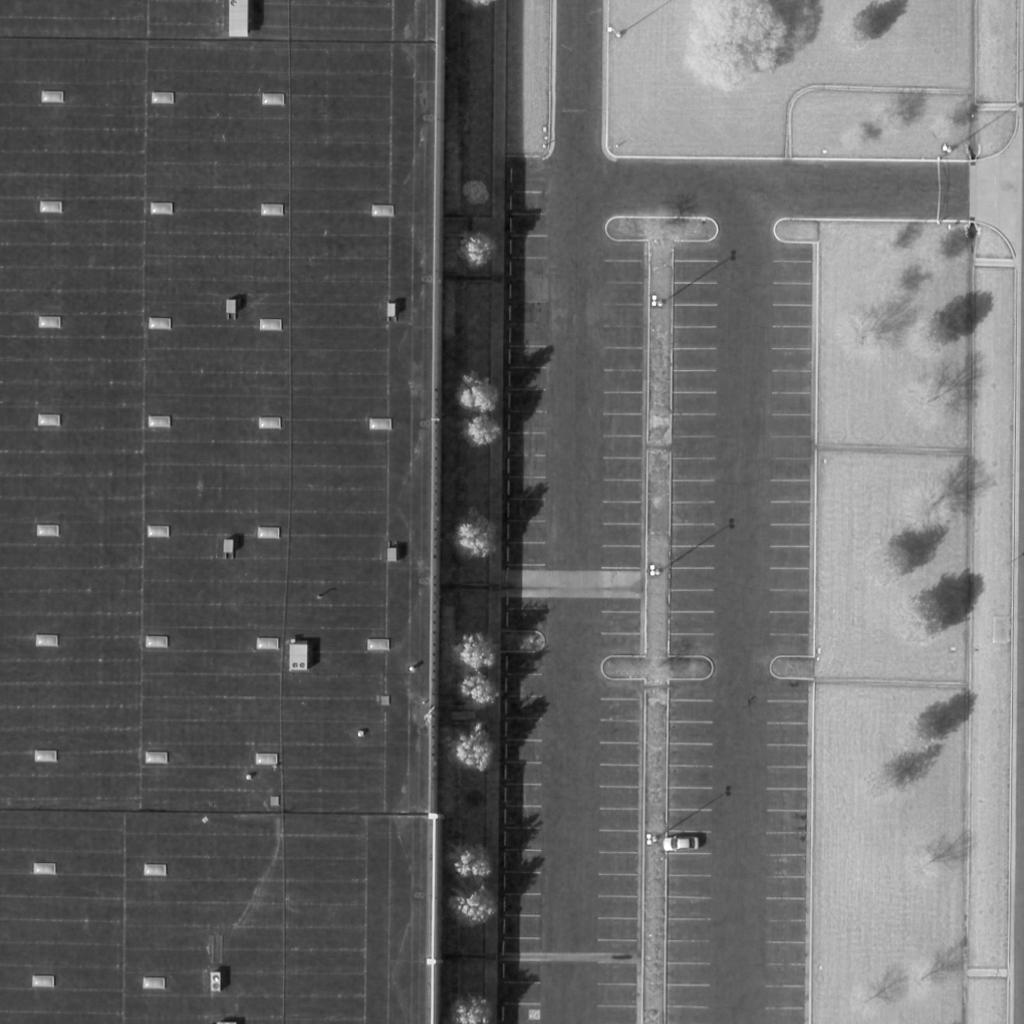vehicle: (662, 837, 700, 851)
